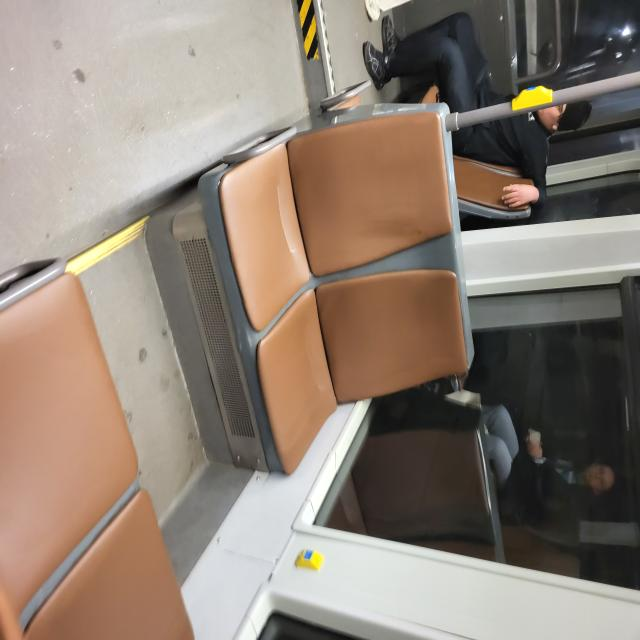asiento-libre: (243, 248, 409, 560), (362, 228, 517, 511), (526, 593, 640, 640)
